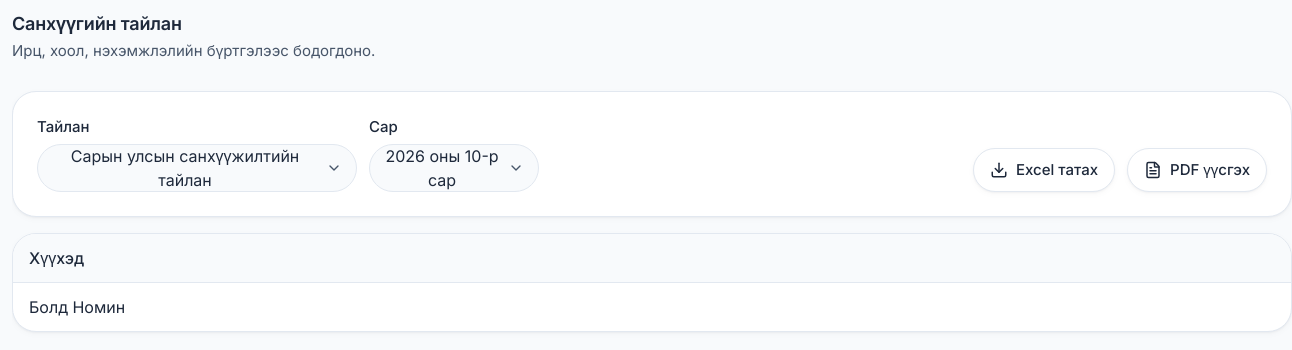
Test: the PDF export › shows it is working while the job is queued
The width and height of the screenshot is (1292, 350).
Click the button "PDF үүсгэх".
click(1197, 170)  # box [1127, 148, 1267, 192]
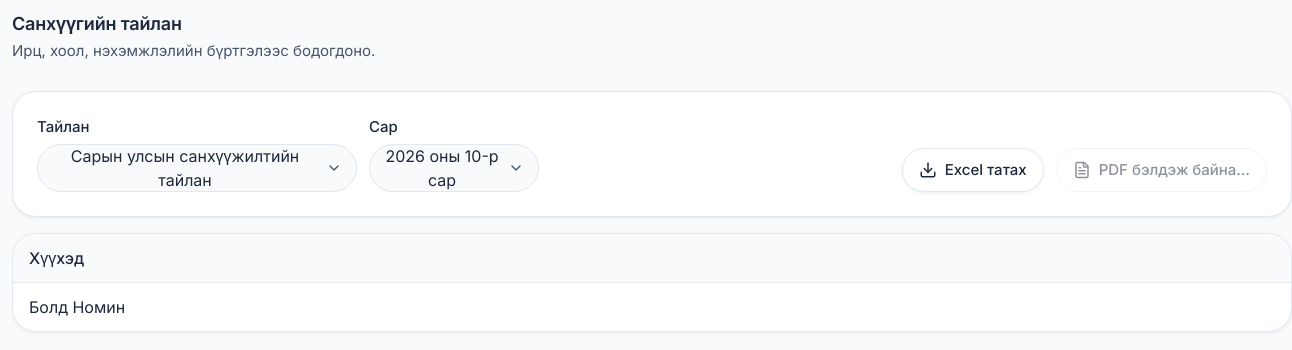
Expected: the button "PDF бэлдэж байна…" is disabled, [1056, 148, 1267, 192]
